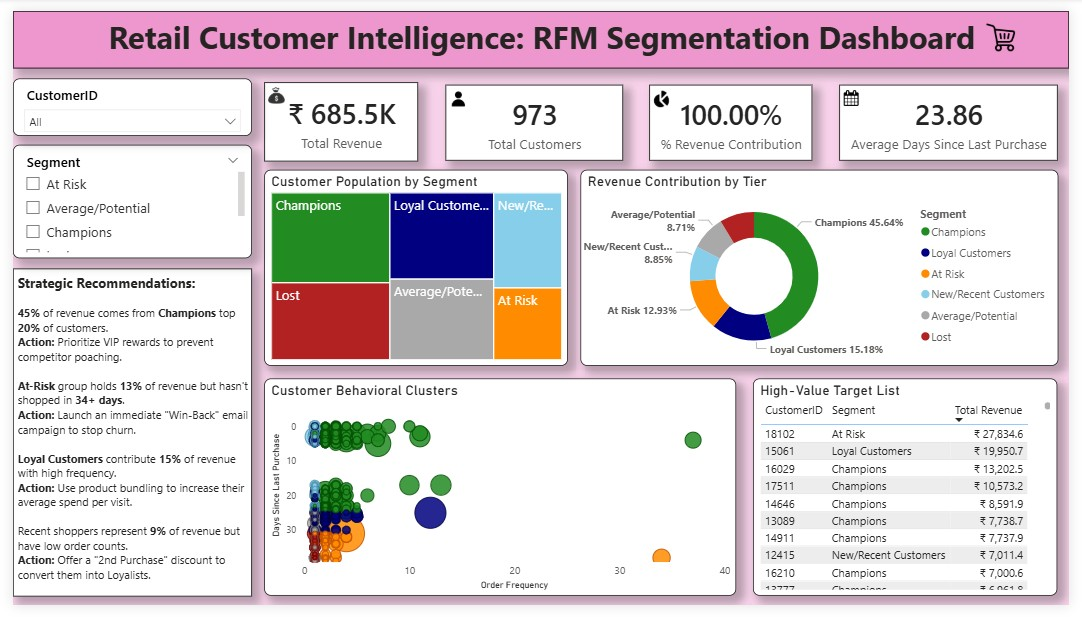

The dashboard page shown, as its layout file describes it:
{"tool":"powerbi","page":{"name":"Page 1","canvas":[1280,720],"ordinal":0},"visuals":[{"type":"textbox","box":[0,311.5,289.5,397.9],"z":0},{"type":"textbox","box":[0,0,1280.3,70],"z":1000},{"type":"card","fields":{"Values":["Measures (2).Total Revenue"]},"box":[304.6,86.4,186.6,96.1],"z":2000},{"type":"card","fields":{"Values":["Measures (2).Total Customers"]},"box":[523.9,88.6,215.4,91.9],"z":3000},{"type":"card","fields":{"Values":["Measures (2).% Revenue Contribution"]},"box":[771.7,88.6,197.6,91.9],"z":4000},{"type":"card","fields":{"Values":["Measures (2).Avg Recency"]},"box":[1001.7,89.2,264.8,91.9],"z":5000},{"type":"treemap","title":"Customer Population by Segment","fields":{"Group":["rfm_segmented_final.Segment"],"Values":["Measures (2).Total Customers"]},"box":[304.6,192.1,367.8,237.4],"z":6000},{"type":"donutChart","title":"Revenue Contribution by Tier","fields":{"Category":["rfm_segmented_final.Segment"],"Y":["Measures (2).Total Revenue"]},"box":[687.5,192.1,579.1,237.4],"z":7000},{"type":"scatterChart","title":"Customer Behavioral Clusters","fields":{"X":["Sum(rfm_segmented_final.frequency)"],"Y":["Sum(rfm_segmented_final.recency)"],"Series":["rfm_segmented_final.Segment"],"Category":["rfm_segmented_final.CustomerID"],"Size":["Sum(rfm_segmented_final.monetary)"]},"box":[304.6,446,572.2,263.5],"z":8000},{"type":"tableEx","title":"High-Value Target List","fields":{"Values":["rfm_segmented_final.CustomerID","rfm_segmented_final.Segment","Measures (2).Total Revenue"]},"box":[897.4,446,369.1,263.5],"z":9000},{"type":"slicer","fields":{"Values":["rfm_segmented_final.Segment"]},"box":[0,161.9,289.5,137.2],"z":11000},{"type":"image","box":[524.2,89.2,31.6,34.3],"z":12000},{"type":"image","box":[304.6,82.3,30.2,41.2],"z":13000},{"type":"image","box":[1001.7,87.8,28.8,35.7],"z":14000},{"type":"image","box":[771.2,89.2,30.2,34.3],"z":15000},{"type":"image","box":[1152.7,0,87.8,60.4],"z":16000},{"type":"slicer","fields":{"Values":["rfm_segmented_final.CustomerID"]},"box":[0,82.3,289.5,70],"z":17000}]}

Visuals, with their boxes in screenshot pixels (x1, y1, x2, y2), scaled from the page's 1280x720 canvas onto the 1082x617 screenshot:
textbox: Rect(0, 267, 245, 608)
textbox: Rect(0, 0, 1081, 60)
card - Measures (2).Total Revenue: Rect(257, 74, 415, 156)
card - Measures (2).Total Customers: Rect(443, 76, 625, 155)
card - Measures (2).% Revenue Contribution: Rect(652, 76, 819, 155)
card - Measures (2).Avg Recency: Rect(847, 76, 1071, 155)
"Customer Population by Segment" treemap: Rect(257, 165, 568, 368)
"Revenue Contribution by Tier" donutChart: Rect(581, 165, 1071, 368)
"Customer Behavioral Clusters" scatterChart: Rect(257, 382, 741, 608)
"High-Value Target List" tableEx: Rect(759, 382, 1071, 608)
slicer - rfm_segmented_final.Segment: Rect(0, 139, 245, 256)
image: Rect(443, 76, 470, 106)
image: Rect(257, 71, 283, 106)
image: Rect(847, 75, 871, 106)
image: Rect(652, 76, 677, 106)
image: Rect(974, 0, 1049, 52)
slicer - rfm_segmented_final.CustomerID: Rect(0, 71, 245, 131)
